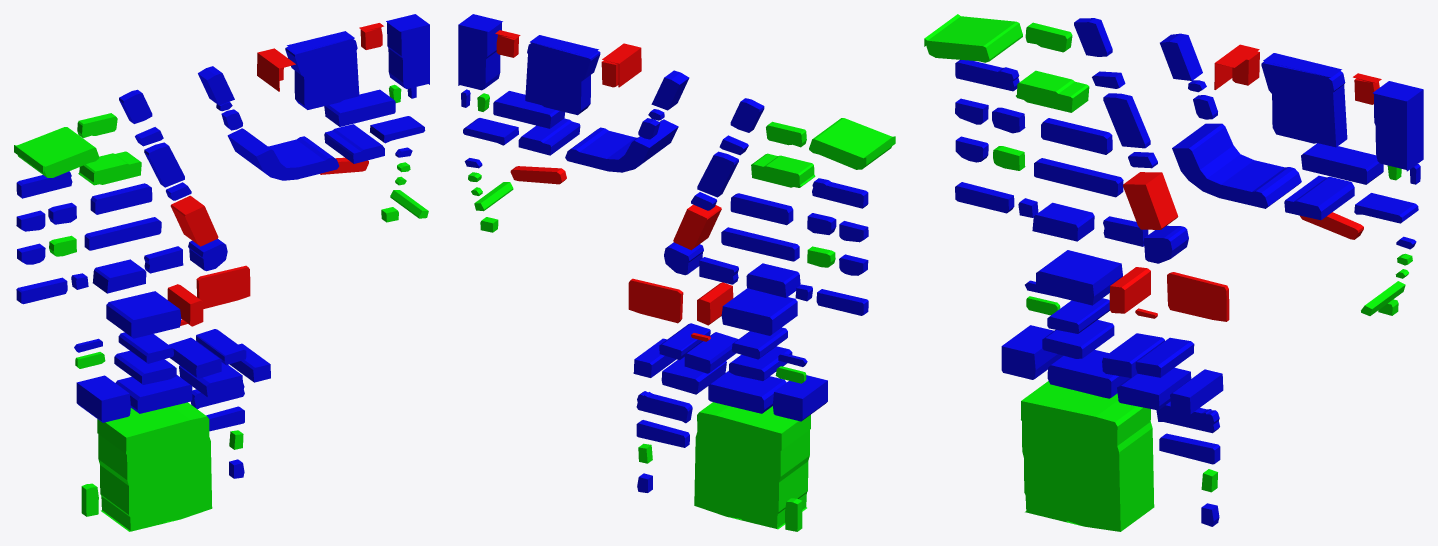
3 views of the same model, side by side, from view 1: azimuth 30°, elevation 25°; view 2: azimuth 150°, elevation 25°; view 3: azimuth 330°, elevation 25° (orthographic). The views are drawn at different scales.
Visible parts, largest first — view 1: building_56, building_2, building_19, building_4, building_9, building_43, building_51, building_54, building_41, building_17, building_20, building_13 (+29 smaller); view 2: building_56, building_2, building_19, building_4, building_9, building_43, building_54, building_51, building_41, building_13, building_17, building_31 (+29 smaller); view 3: building_56, building_2, building_19, building_4, building_9, building_43, building_41, building_54, building_27, building_17, building_51, building_13 (+31 smaller).
Boxes of the visible parts, x1=… form: building_56: x1=97, y1=402, x2=212, y2=531; building_2: x1=285, y1=31, x2=359, y2=109; building_19: x1=227, y1=128, x2=339, y2=180; building_4: x1=386, y1=14, x2=429, y2=88; building_9: x1=14, y1=127, x2=99, y2=177; building_43: x1=106, y1=291, x2=181, y2=338; building_51: x1=76, y1=375, x2=130, y2=422; building_54: x1=115, y1=375, x2=192, y2=413; building_41: x1=196, y1=265, x2=250, y2=308; building_17: x1=324, y1=89, x2=395, y2=126; building_20: x1=324, y1=124, x2=384, y2=163; building_13: x1=78, y1=151, x2=141, y2=185; building_56: x1=694, y1=402, x2=810, y2=529; building_2: x1=525, y1=35, x2=600, y2=115; building_19: x1=565, y1=119, x2=678, y2=172; building_4: x1=458, y1=14, x2=502, y2=90; building_9: x1=809, y1=118, x2=895, y2=169; building_43: x1=721, y1=288, x2=797, y2=335; building_54: x1=708, y1=371, x2=786, y2=413; building_51: x1=772, y1=375, x2=827, y2=421; building_41: x1=628, y1=278, x2=683, y2=323; building_13: x1=751, y1=153, x2=815, y2=187; building_17: x1=493, y1=91, x2=564, y2=128; building_31: x1=721, y1=227, x2=799, y2=261; building_56: x1=1021, y1=381, x2=1154, y2=531; building_2: x1=1261, y1=53, x2=1347, y2=147; building_19: x1=1172, y1=123, x2=1301, y2=208; building_4: x1=1373, y1=81, x2=1423, y2=171; building_9: x1=924, y1=14, x2=1022, y2=62; building_43: x1=1036, y1=250, x2=1122, y2=305; building_41: x1=1167, y1=272, x2=1229, y2=321; building_54: x1=1047, y1=350, x2=1129, y2=398; building_27: x1=1123, y1=172, x2=1178, y2=229; building_17: x1=1301, y1=143, x2=1383, y2=184; building_51: x1=1001, y1=325, x2=1063, y2=379; building_13: x1=1016, y1=70, x2=1089, y2=112.
Bounding box in the file's own units: 2047 × 2047 × 255.
